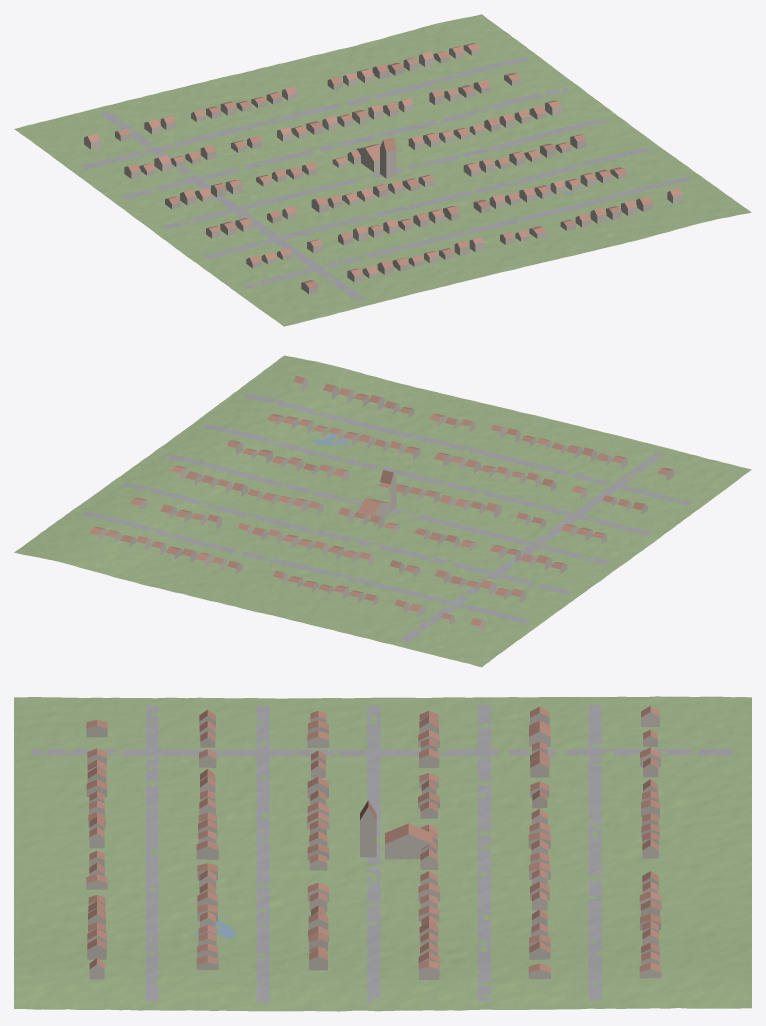
File: demo.glb
3 views of the same model, one above another, from view 1: azimuth 30°, elevation 25°; view 2: azimuth 150°, elevation 25°; view 3: azimuth 270°, elevation 25° (orthographic). The views are drawn at different scales.
Parts seen in each view (by area): view 1: class:grass, class:wall, class:road, class:roof; view 2: class:grass, class:road, class:roof, class:wall; view 3: class:grass, class:road, class:roof, class:wall.
Boxes of the visible parts, x1,y1,x2,y2 form: class:grass: (14, 14, 751, 326); class:wall: (84, 45, 682, 294); class:road: (81, 57, 691, 301); class:roof: (87, 43, 681, 287); class:grass: (14, 355, 751, 667); class:road: (81, 394, 691, 642); class:roof: (89, 375, 673, 626); class:wall: (98, 378, 673, 632); class:grass: (14, 696, 751, 1011); class:road: (32, 704, 733, 1002); class:roof: (86, 706, 661, 972); class:wall: (86, 712, 661, 979).
Size of the model in its own units: 400 by 31.04 by 400.
